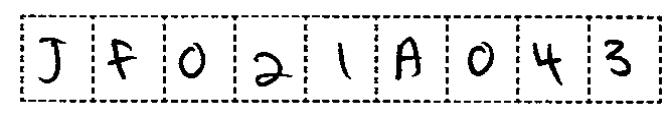0: (170, 36, 215, 85), (461, 37, 498, 81)
1: (326, 39, 360, 86)
2: (248, 47, 296, 90)
3: (596, 35, 638, 79)
4: (528, 37, 570, 91)
A: (389, 34, 426, 85)
F: (101, 35, 142, 82)
J: (28, 31, 73, 88)
